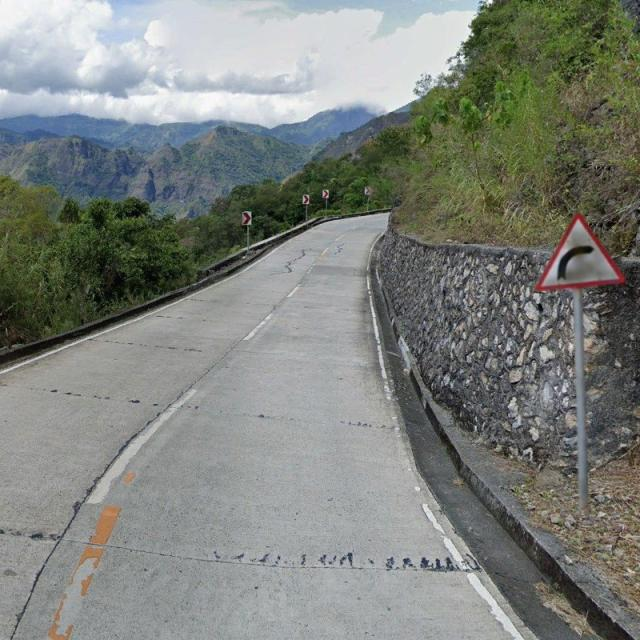warn_right_curve: (535, 214, 624, 291)
